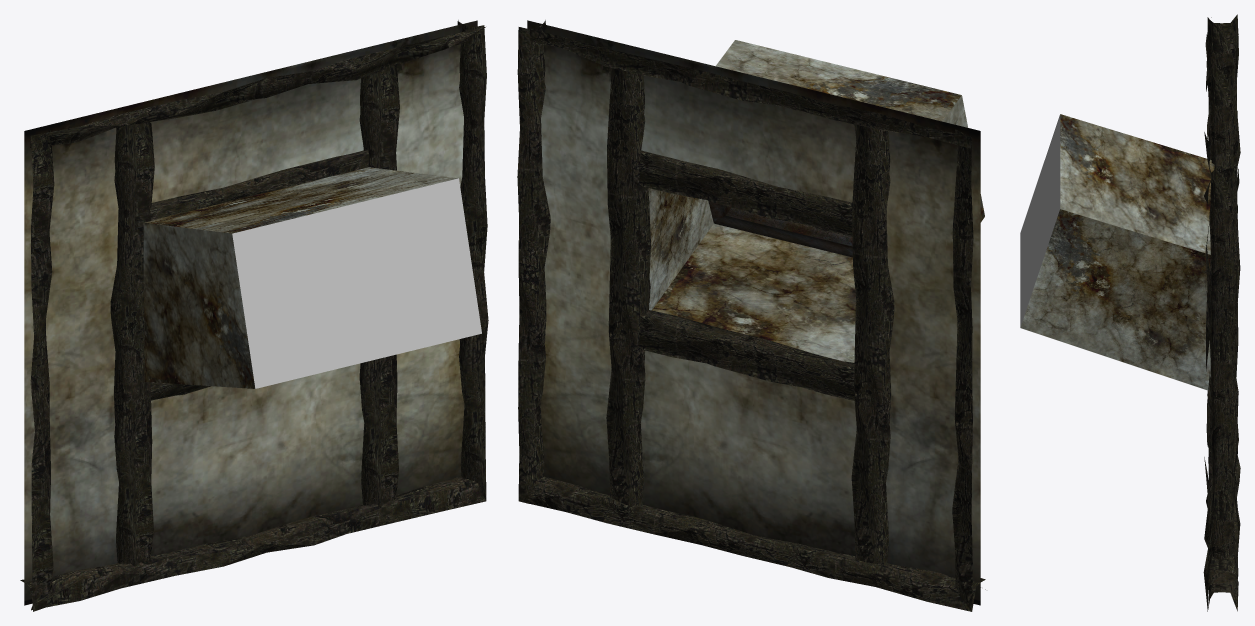
Rendered from window02_extension_blue.dae.
The picture shows the model from 3 angles, left to right: view 1: azimuth 30°, elevation 25°; view 2: azimuth 150°, elevation 25°; view 3: azimuth 270°, elevation 25°; orthographic projection. The views are drawn at different scales.
Visible parts, largest first — view 1: Box041, Box043, Box039; view 2: Box041, Box043, Box038; view 3: Box041, Box043, Box039.
Part boxes in pixels (x1,y1,x2,y2): Box041: (24,20,477,605); Box043: (20,20,488,611); Box039: (232,178,481,388); Box041: (527,20,984,605); Box043: (517,20,985,611); Box038: (708,200,852,257); Box041: (1020,114,1214,390); Box043: (1203,14,1240,611); Box039: (1020,114,1060,327).
Size of the model in its own units: 4 by 1.96 by 4.
